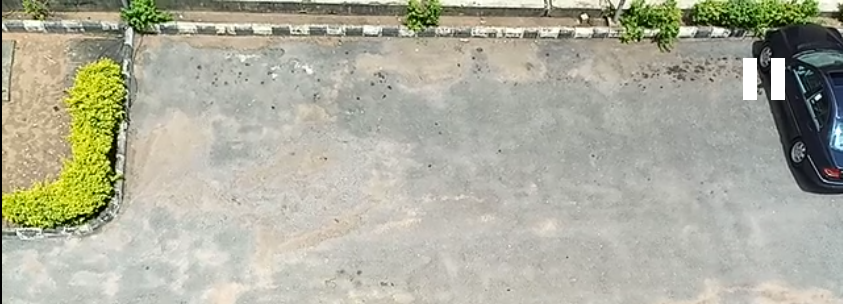one: (107, 4, 262, 235)
three: (485, 4, 627, 241)
two: (307, 1, 442, 243)
